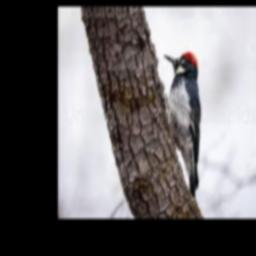Woodpecker: (163, 51, 201, 199)
